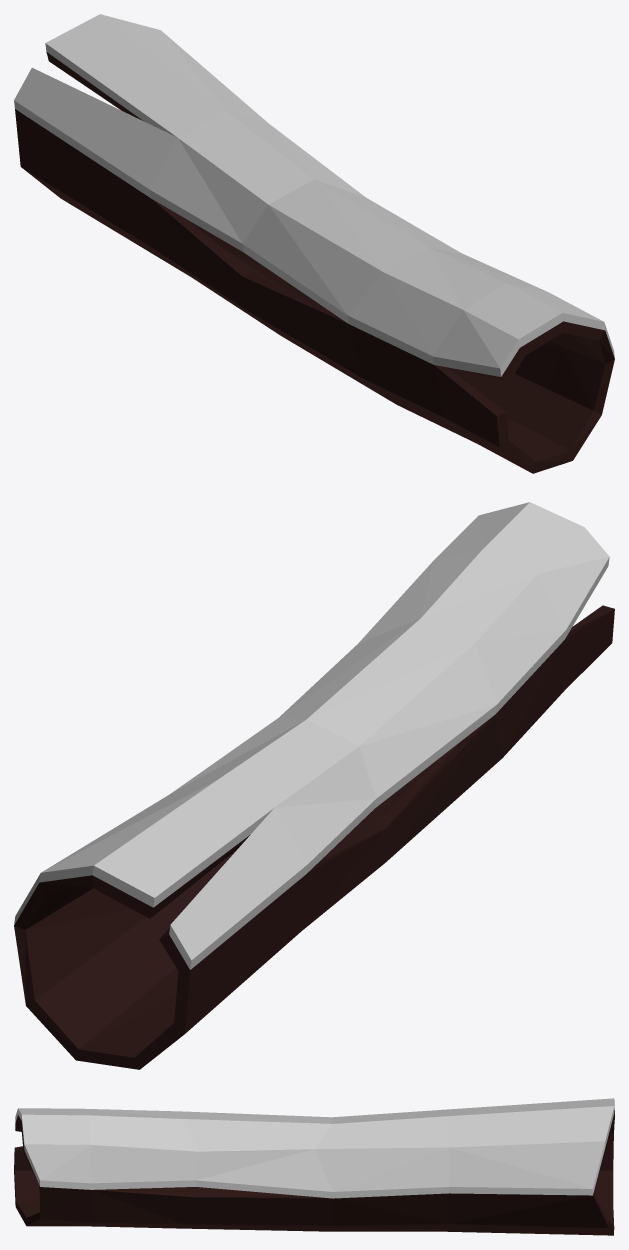
Rendered from WoodLog_Snow.fbx.
The picture shows the model from 3 angles, top to bottom: view 1: azimuth 30°, elevation 25°; view 2: azimuth 150°, elevation 25°; view 3: azimuth 270°, elevation 25°; orthographic projection. The views are drawn at different scales.
Visible parts, largest first — view 1: WoodLog_Snow; view 2: WoodLog_Snow; view 3: WoodLog_Snow.
Part boxes in pixels (x1,y1,x2,y2): WoodLog_Snow: (14,14,614,473); WoodLog_Snow: (14,502,614,1069); WoodLog_Snow: (14,1098,614,1235).
Bounding box in the file's own units: 120 × 476 × 111.
